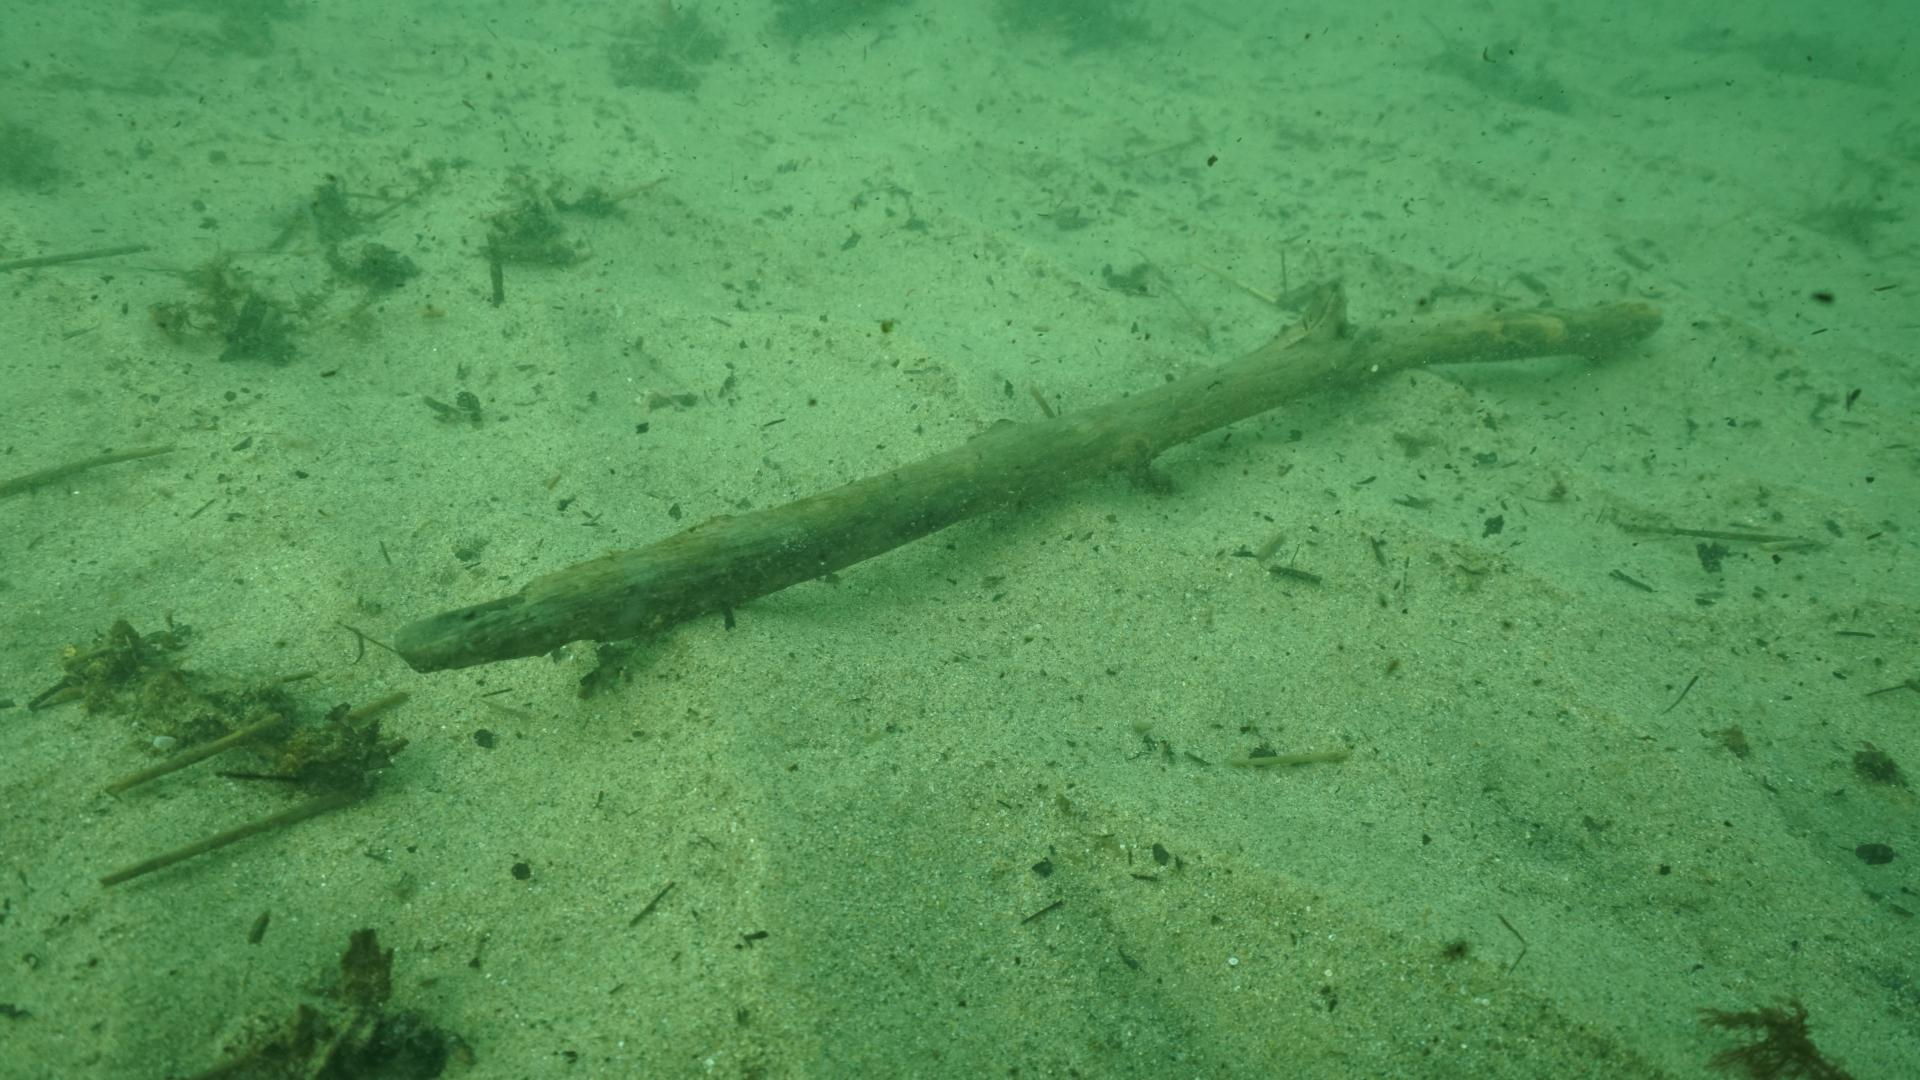wood: (390, 276, 1660, 675)
